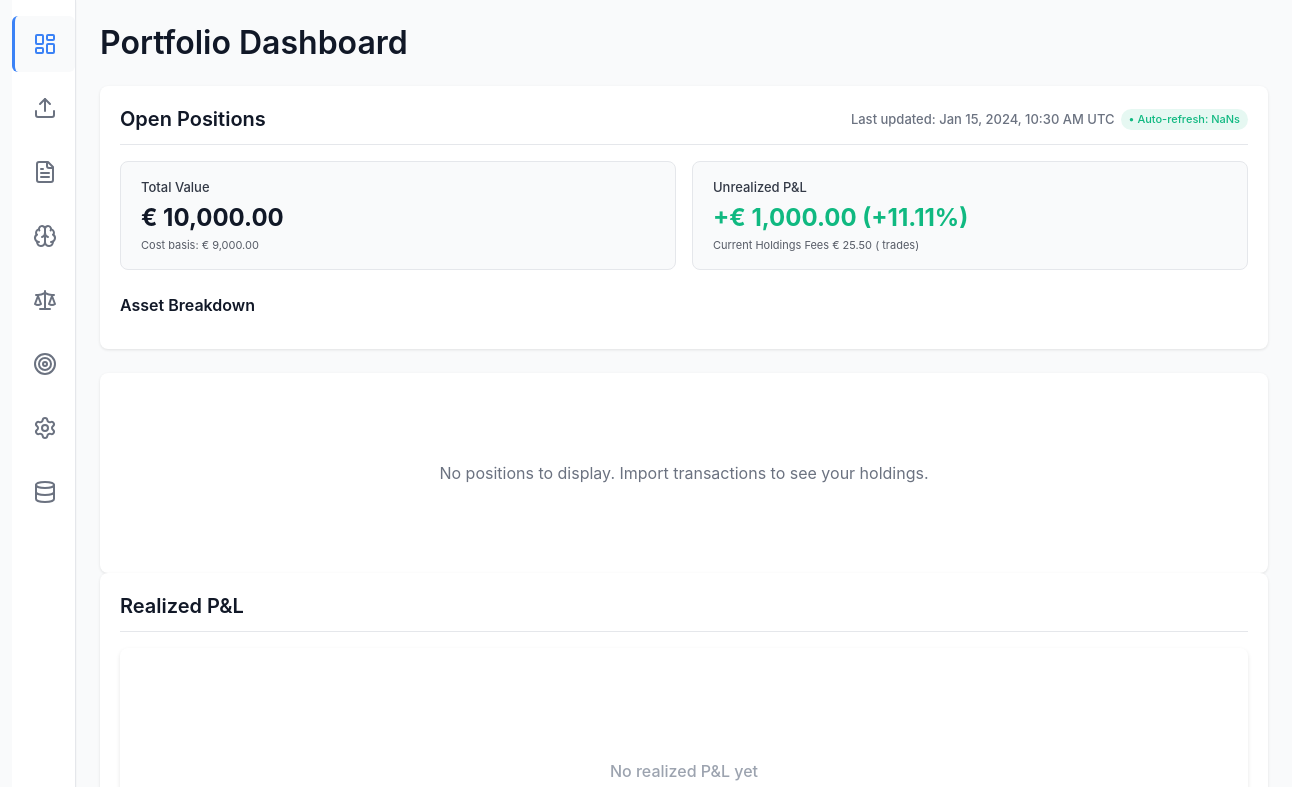
App Integration Tests - Epic 6 › Sidebar Navigation › navigates from portfolio to upload tab
Click upload in sidebar
Click the button titled "Upload" at [44, 108], box [12,80,75,136]
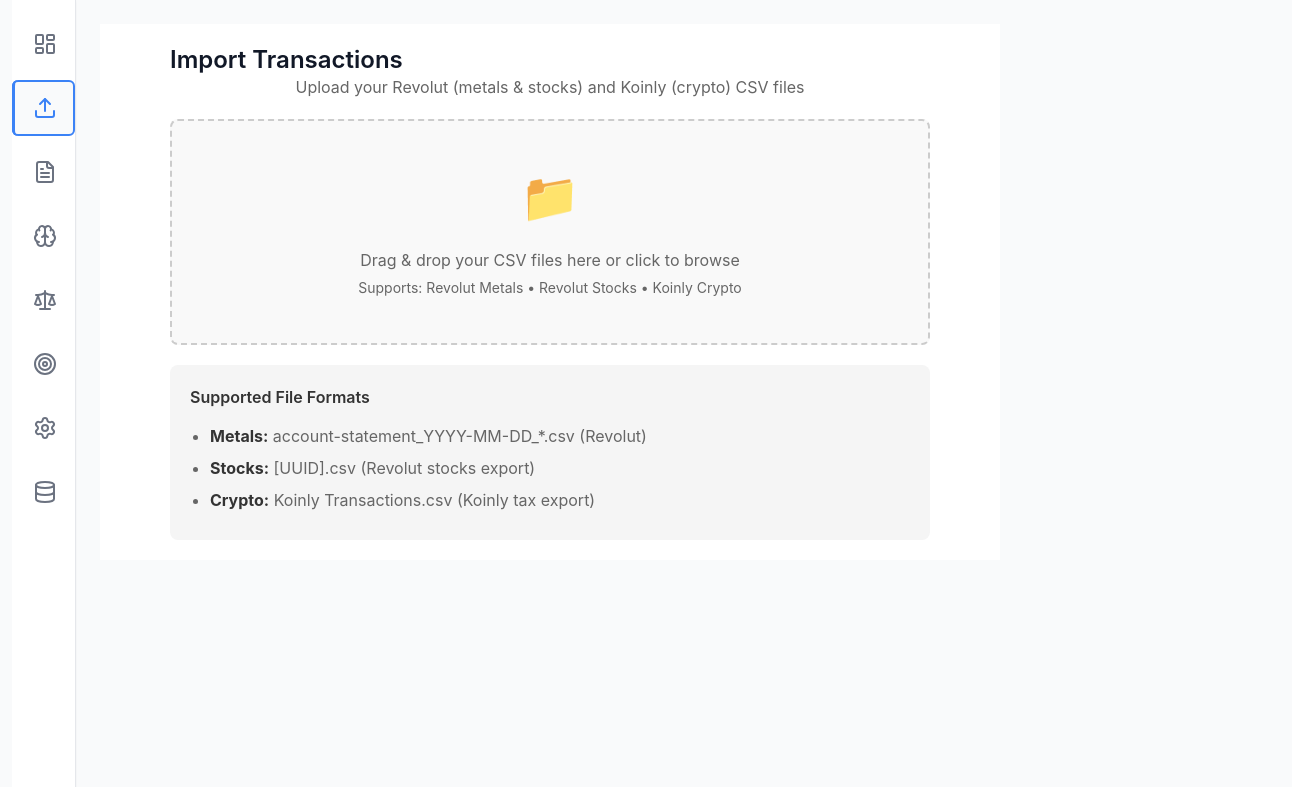
Expected: the heading "Import Transactions" is shown, [170,45,403,74]
Expected: the heading "Portfolio Dashboard" is gone
